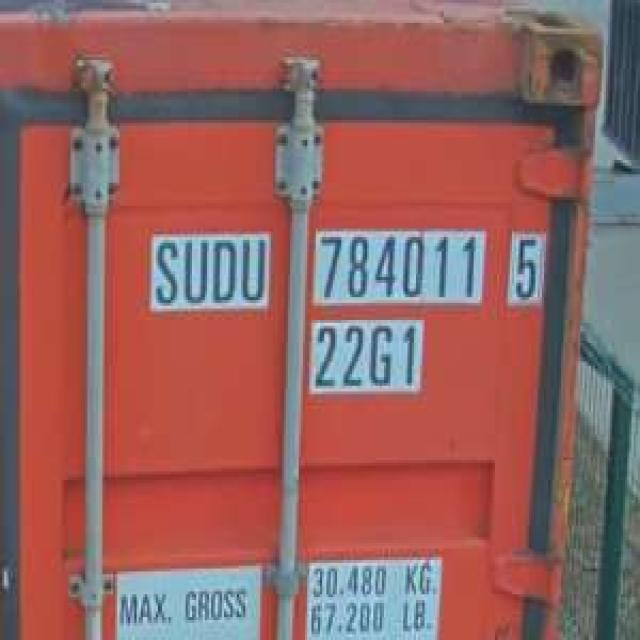dv: (509, 231, 543, 303)
owner: (151, 234, 271, 312)
serial: (314, 231, 482, 303)
size: (312, 322, 421, 392)
